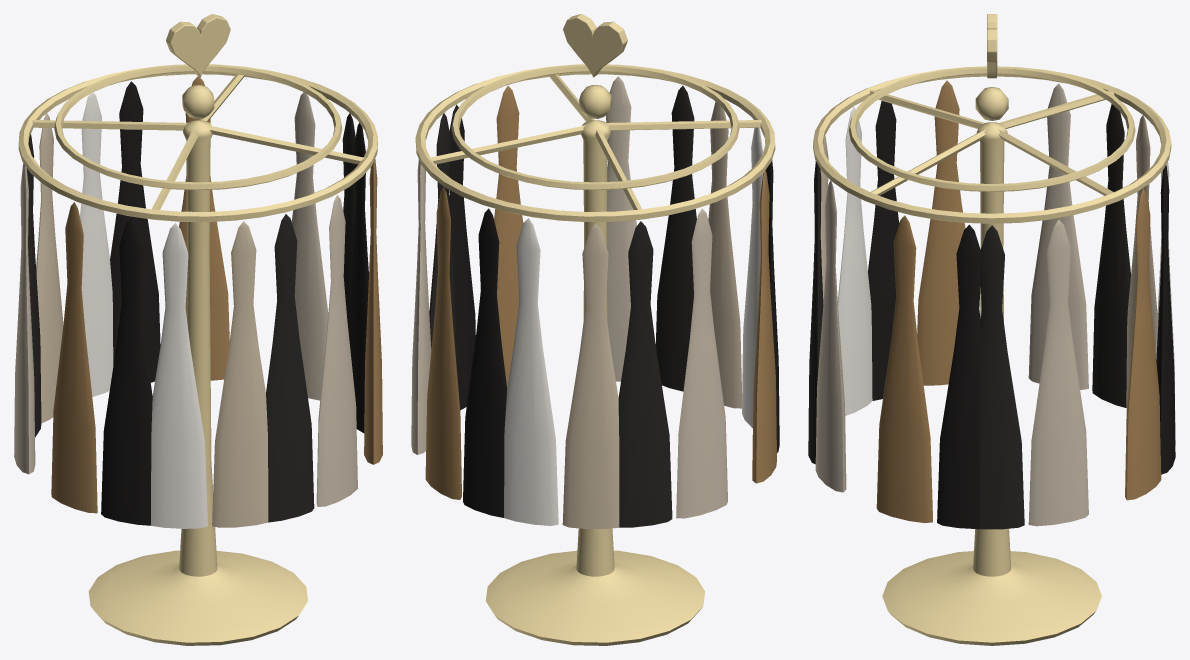
The model's file is rack_round_carousel.glb.
3 renders of one model, left to right at view 1: azimuth 30°, elevation 25°; view 2: azimuth 150°, elevation 25°; view 3: azimuth 270°, elevation 25°, orthographic.
Visible parts, largest first — view 1: rack_round_carousel; view 2: rack_round_carousel; view 3: rack_round_carousel.
Part boxes in pixels (x1,y1,x2,y2): rack_round_carousel: (14, 14, 382, 645); rack_round_carousel: (411, 14, 779, 645); rack_round_carousel: (808, 14, 1175, 645).
Bounding box in the file's own units: 1.05 × 1.84 × 1.05.
